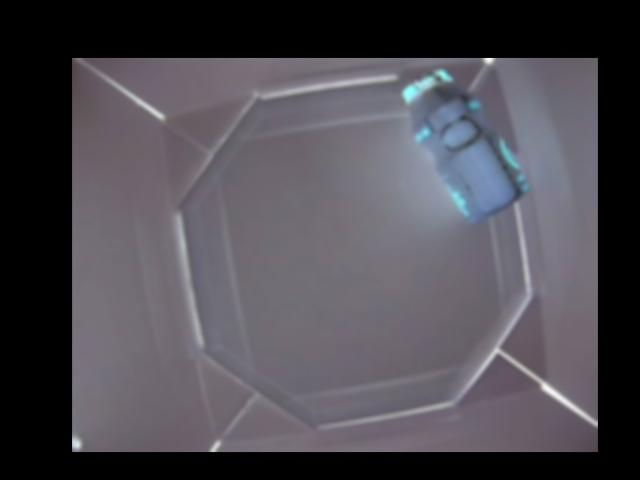Bottle: (406, 66, 531, 219)
